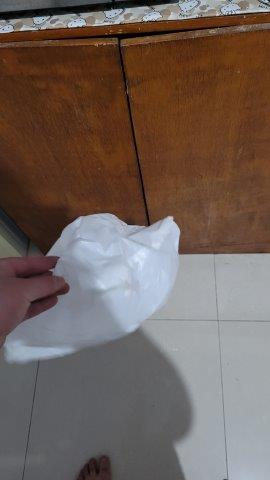plastik: (7, 212, 179, 364)
